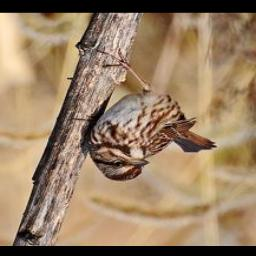Sparrow: (84, 48, 219, 183)
